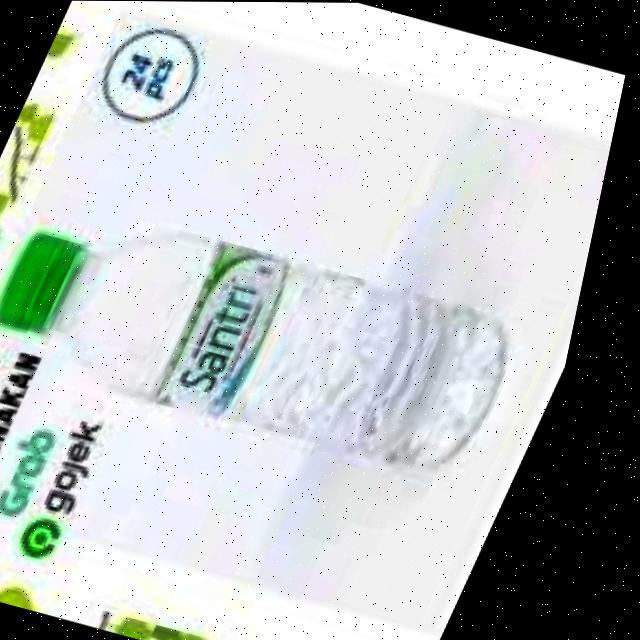sise: (0, 127, 597, 514)
